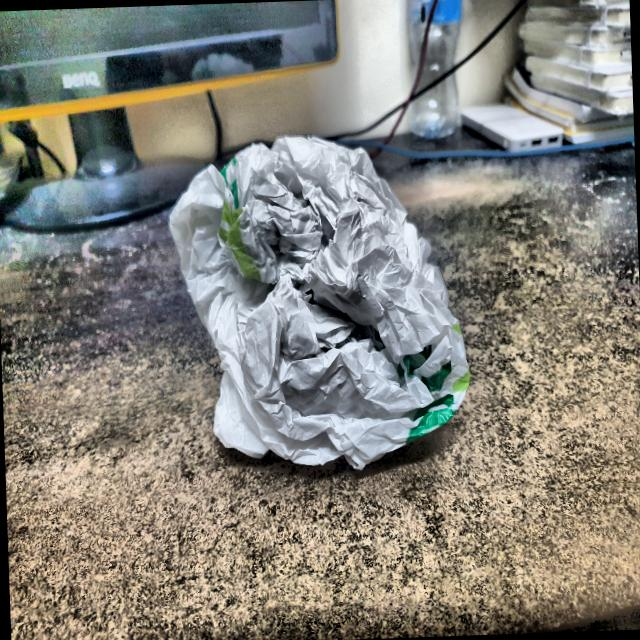plastic bag: (162, 120, 479, 490)
